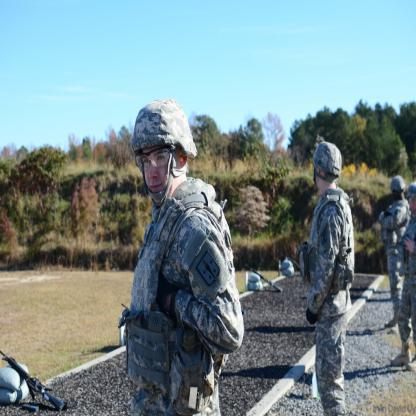Helmet: (128, 96, 192, 210), (312, 136, 341, 196), (386, 175, 403, 193), (405, 183, 415, 213)
